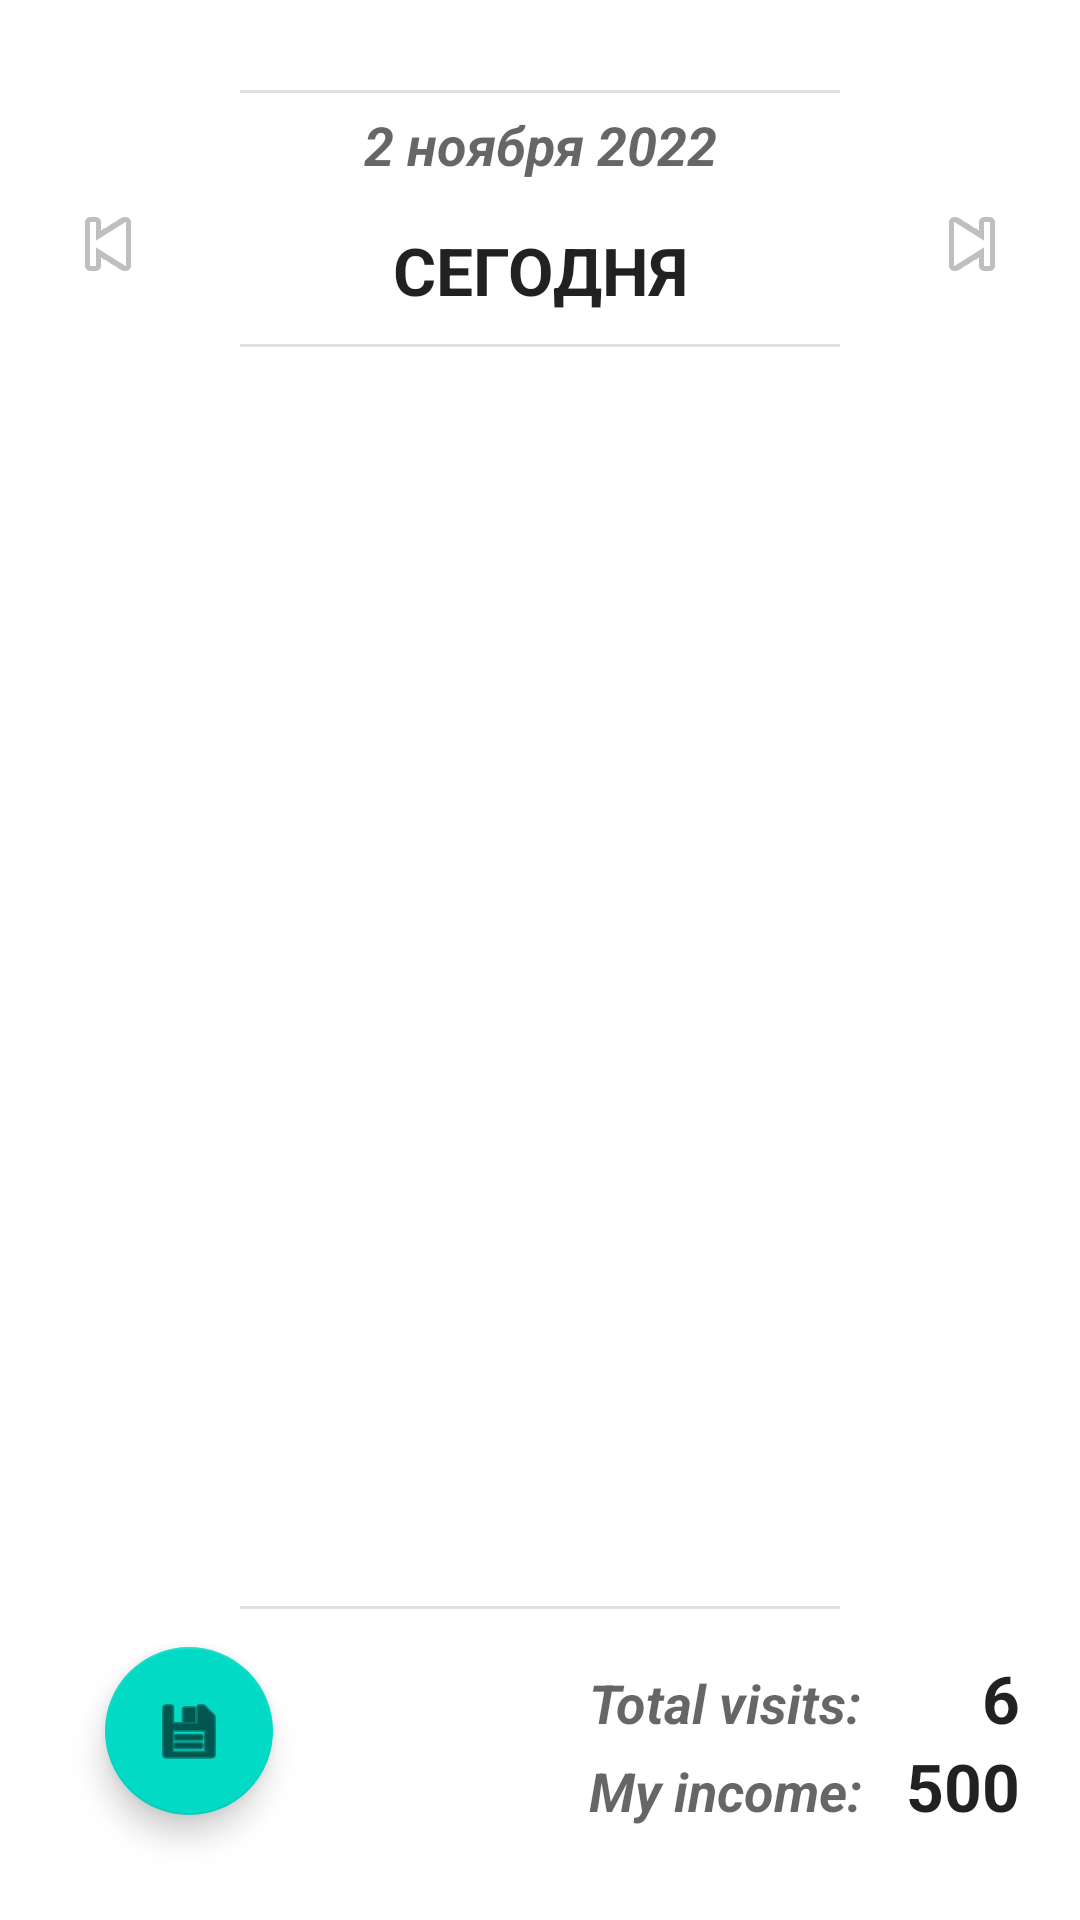

Screen size 1080*1920. Icon name, then its box in pixels as (x1, y1, x2, y2):
save: (105, 1647, 273, 1815)
